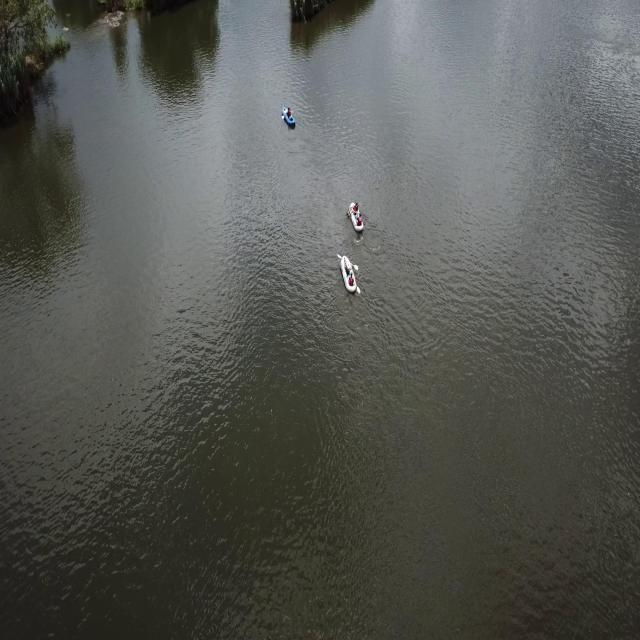kayak: (338, 252, 360, 297), (344, 199, 368, 239), (280, 107, 296, 131)
